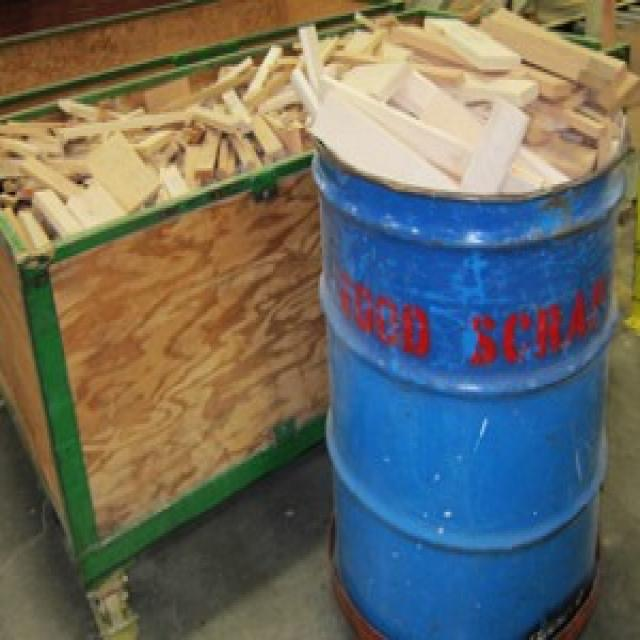Metal-Non-Biodegradable but recyclable-: (314, 153, 628, 640)
green waste: (2, 0, 640, 640)
